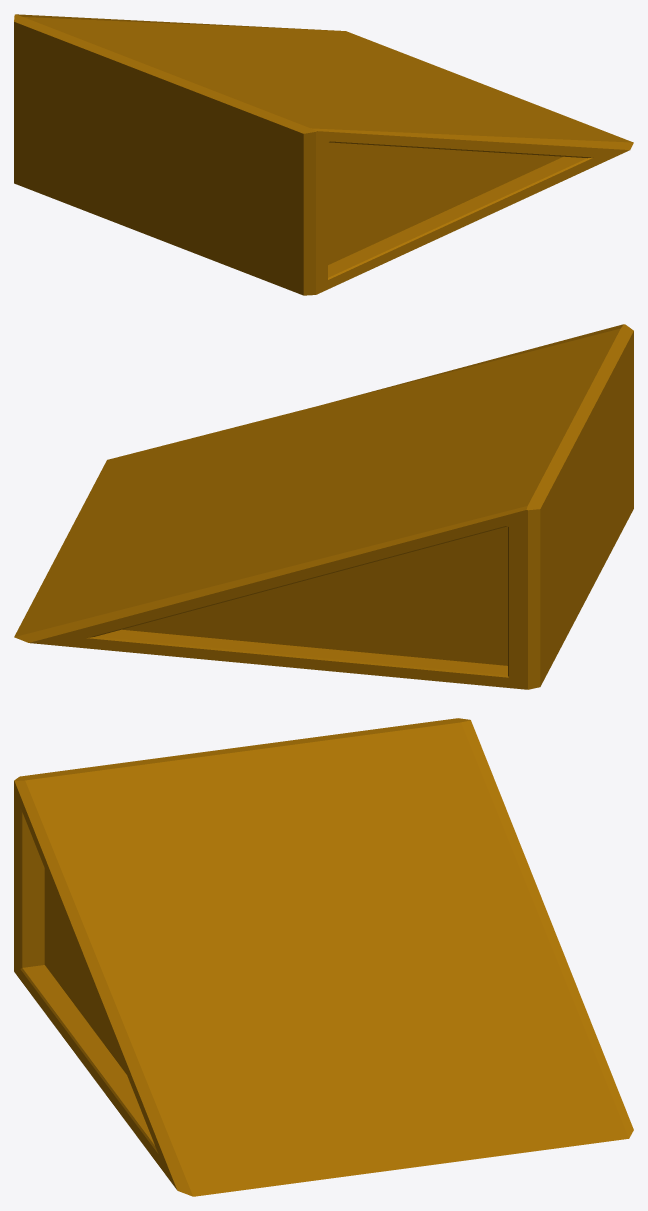
Rendered from Slope.fbx.
3 views of the same model, one above another, from view 1: azimuth 30°, elevation 25°; view 2: azimuth 150°, elevation 25°; view 3: azimuth 270°, elevation 25° (orthographic). The views are drawn at different scales.
Visible parts, largest first — view 1: pCube2; view 2: pCube2; view 3: pCube2.
Boxes of the visible parts, x1=… form: pCube2: x1=14, y1=14, x2=633, y2=295; pCube2: x1=14, y1=324, x2=633, y2=689; pCube2: x1=14, y1=718, x2=633, y2=1196.
Bounding box in the file's own units: 6.49 × 2 × 5.87.
